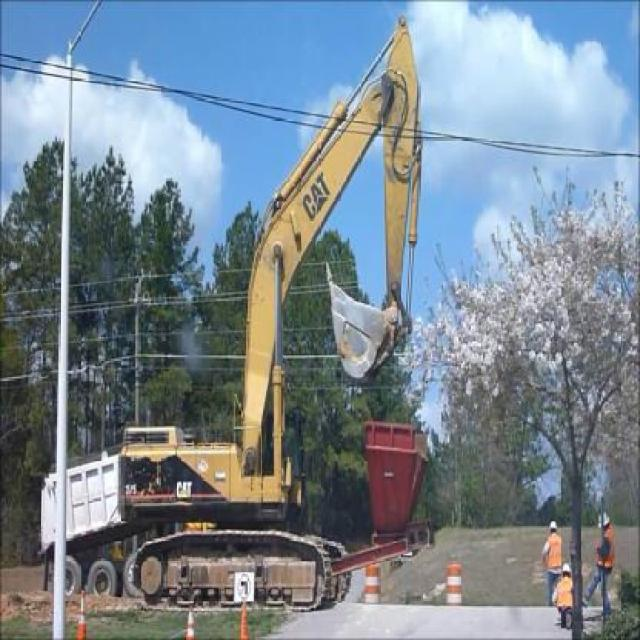dump_truck: (38, 440, 134, 597)
excavator: (115, 10, 422, 615)
